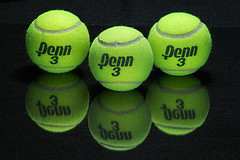tennis ball: (24, 8, 91, 75), (88, 25, 154, 92), (147, 10, 212, 77), (87, 90, 151, 151), (24, 74, 89, 134), (146, 76, 211, 136)
